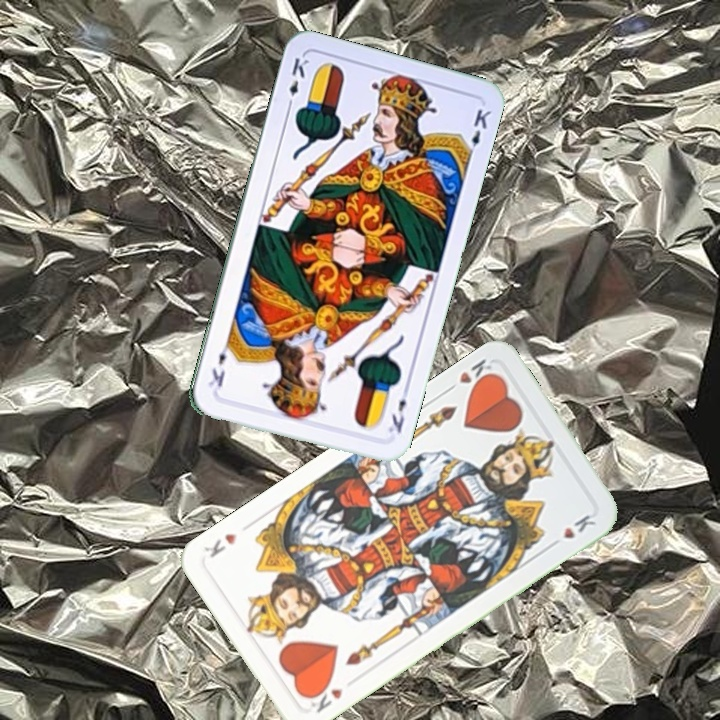EK: (283, 53, 311, 112), (383, 383, 409, 441)
HK: (441, 354, 499, 395), (304, 678, 346, 716)
